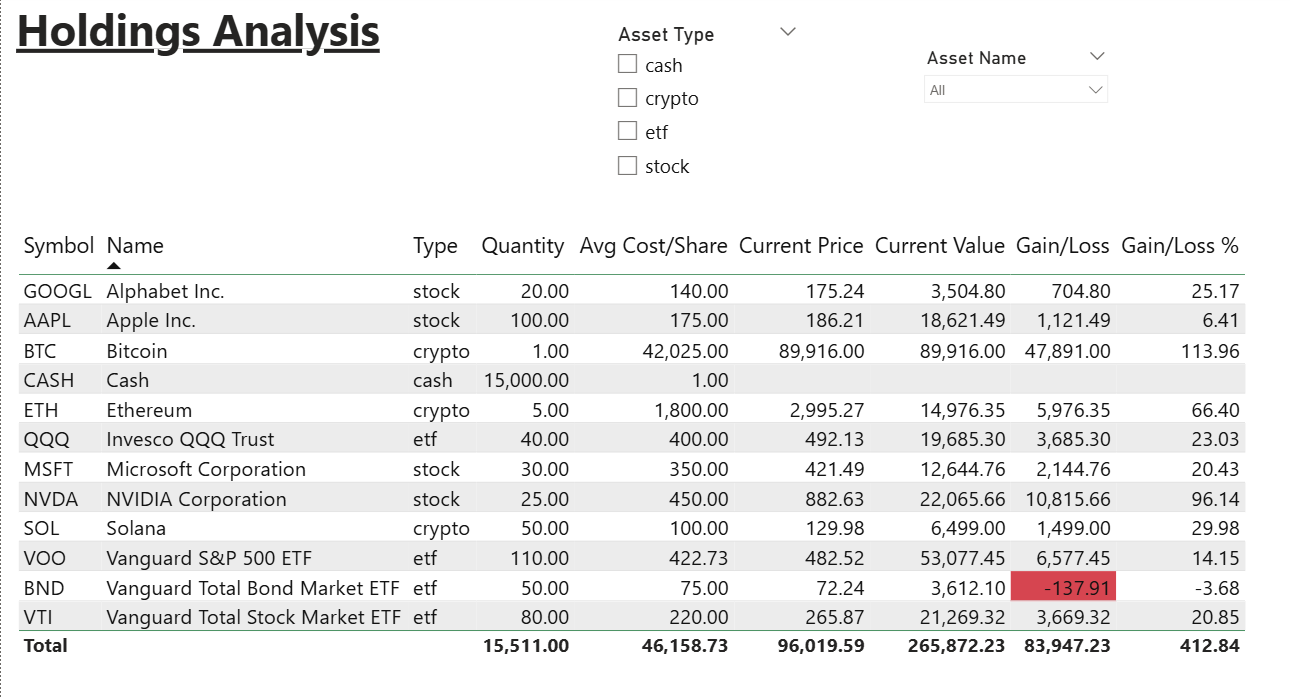

The dashboard page shown, as its layout file describes it:
{"tool":"powerbi","page":{"name":"Holding","canvas":[1280,720],"ordinal":3},"visuals":[{"type":"textbox","box":[9.8,0,390.1,92.9],"z":1000},{"type":"tableEx","fields":{"Values":["v_holding_performance.symbol","v_holding_performance.asset_name","v_holding_performance.asset_type","Sum(v_holding_performance.quantity)","Sum(v_holding_performance.average_cost_per_share)","Sum(v_holding_performance.current_price)","Sum(v_holding_performance.current_value)","Sum(v_holding_performance.gain_loss)","Sum(v_holding_performance.gain_loss_pct)"]},"box":[11,223.8,1269.3,496.5],"z":2000},{"type":"slicer","fields":{"Values":["v_holding_performance.asset_name"]},"box":[892.7,46.5,200.5,92.9],"z":3000},{"type":"slicer","fields":{"Values":["v_holding_performance.asset_type"]},"box":[590.6,23.2,200.5,200.5],"z":4000}]}

Visuals, with their boxes on the page's 1280x720 design canvas (x1, y1, x2, y2). These are canvas units, not pixel positions in the 1290x697 screenshot, which may show the page scaled, cropped or inside an application window:
textbox: detection(10, 0, 400, 93)
tableEx - v_holding_performance.symbol x v_holding_performance.asset_name: detection(11, 224, 1280, 720)
slicer - v_holding_performance.asset_name: detection(893, 46, 1093, 139)
slicer - v_holding_performance.asset_type: detection(591, 23, 791, 224)
